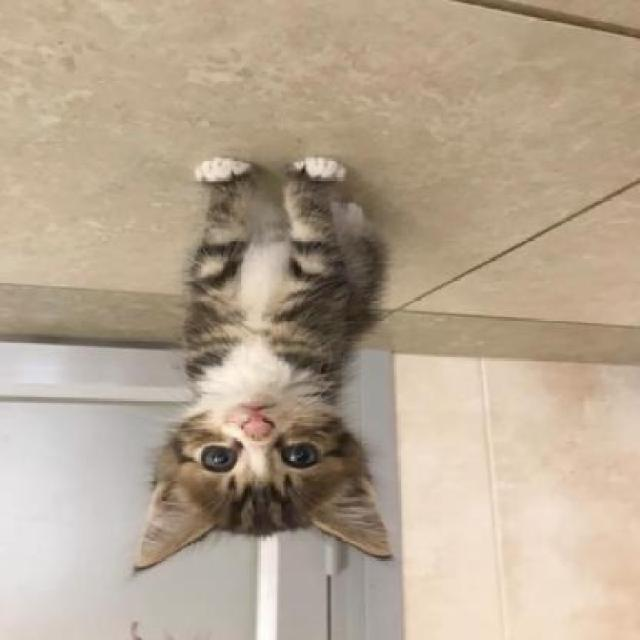cat: (106, 110, 474, 588)
